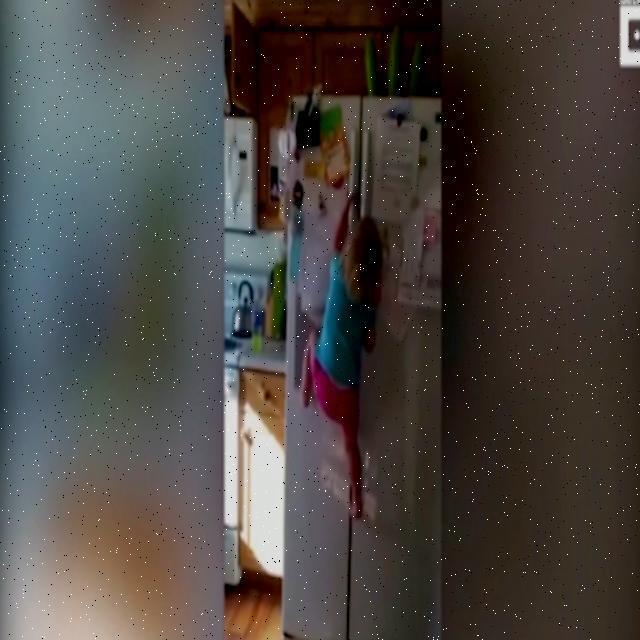child: (300, 191, 377, 512)
